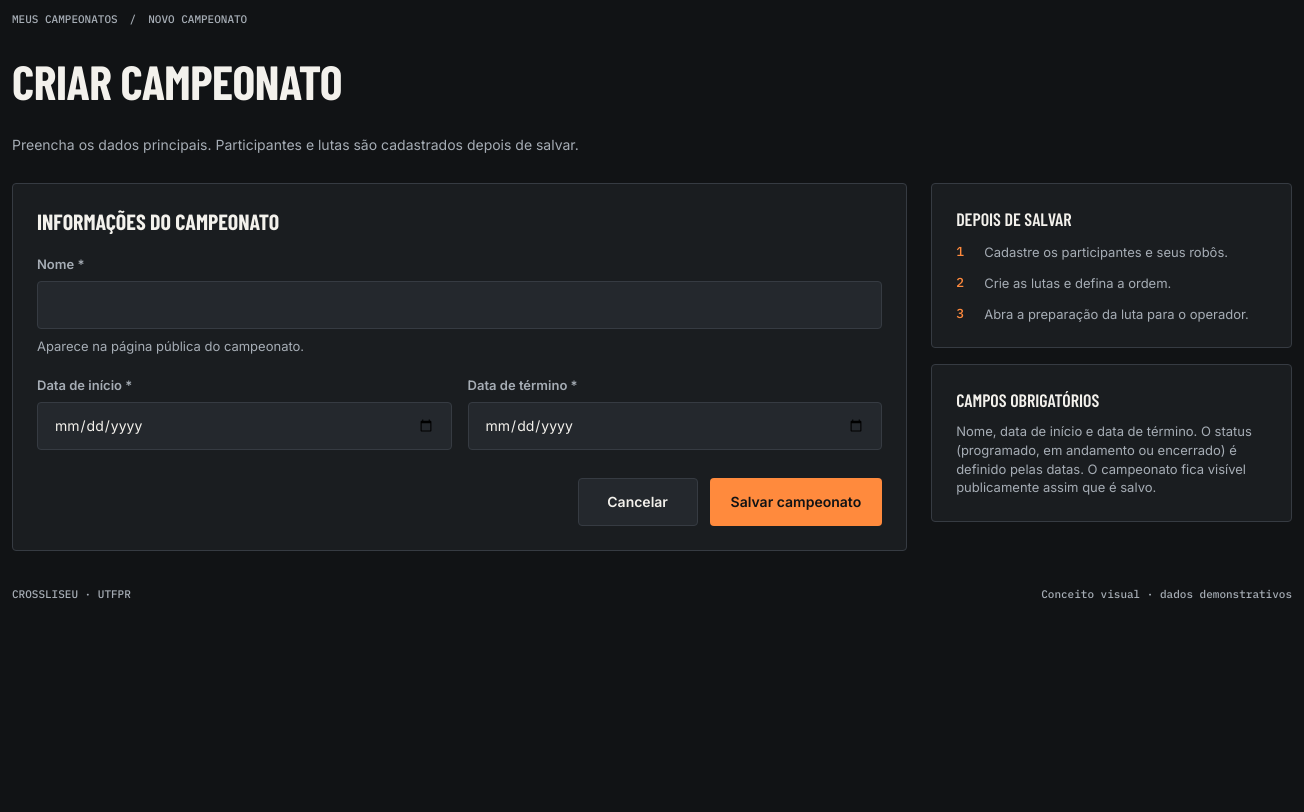
it: ChampionshipFormView › shows the connection banner when the request never got a response
This screenshot has width=1304, height=812.
In the field named "name": (460, 305) [37, 281, 882, 329], type "Copa"
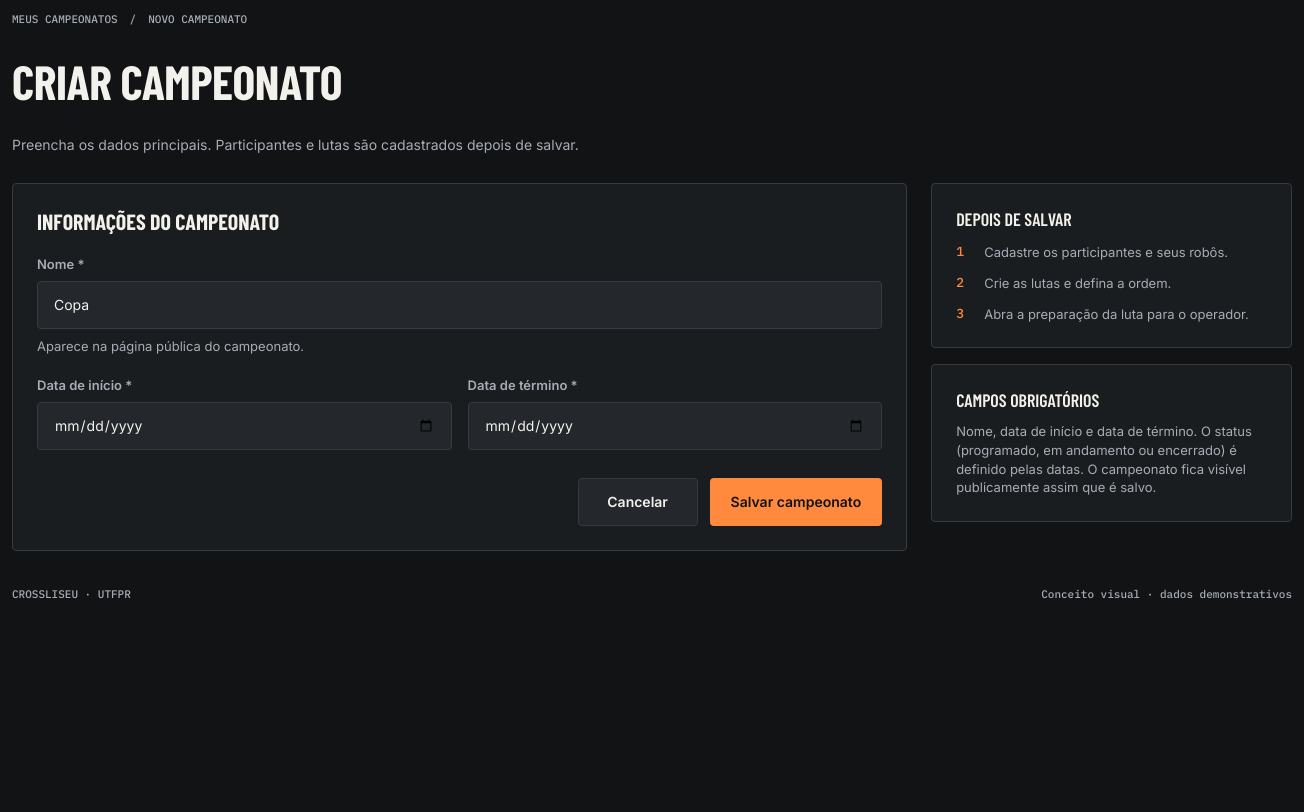
In the date field labelled "Data de início *": (244, 426) [37, 402, 452, 450], type "2026-12-09"
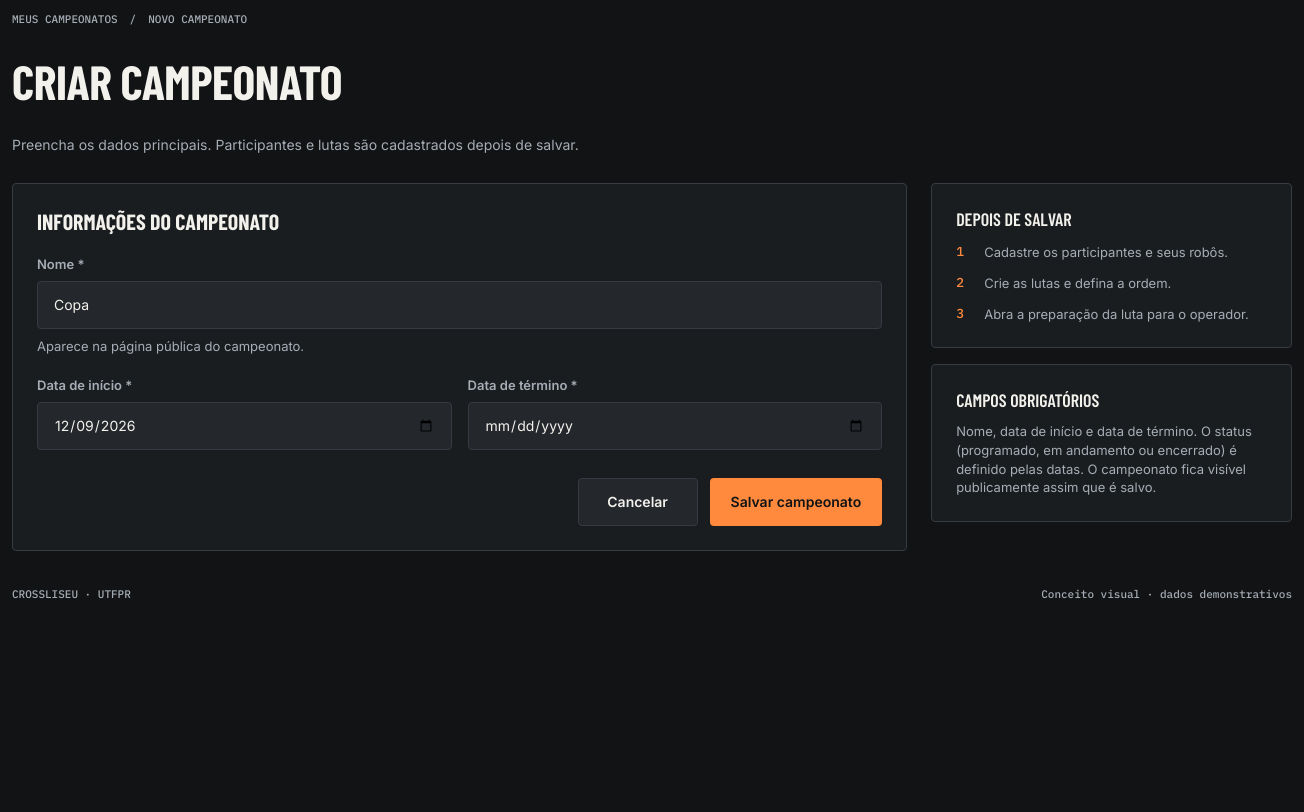
In the date field labelled "Data de término *": (675, 426) [468, 402, 882, 450], type "2026-12-10"
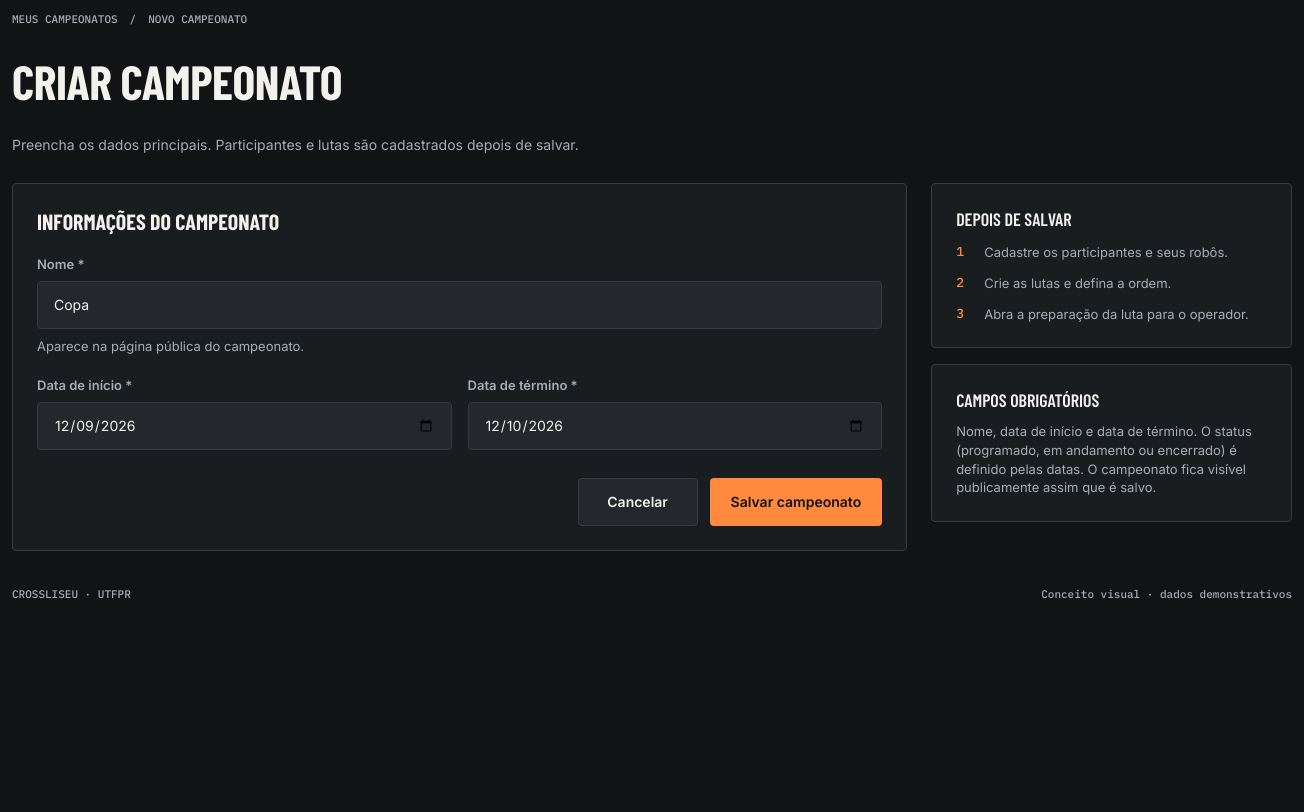
Submit the form, box [12, 183, 907, 551]
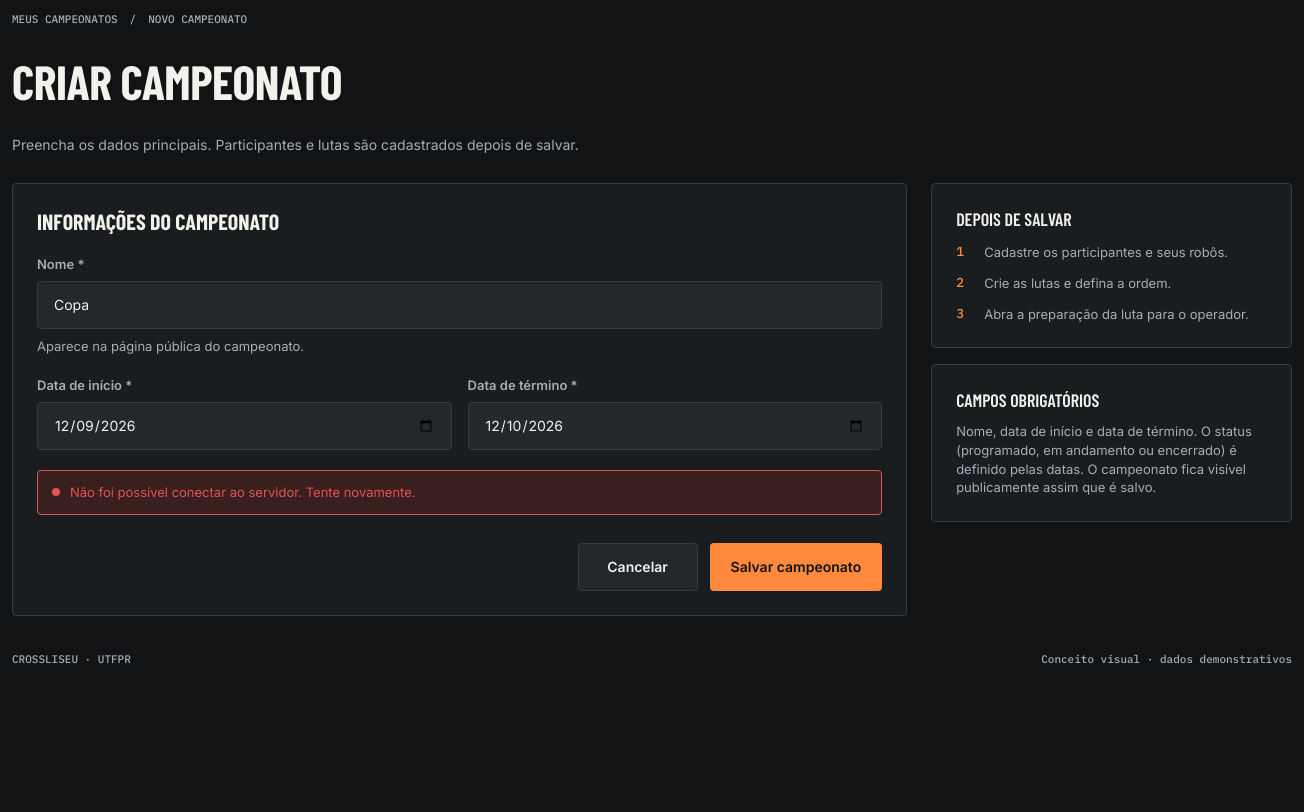
Expected: the message "Não foi possível conectar ao servidor. Tente novamente." is shown, [37, 470, 882, 515]
